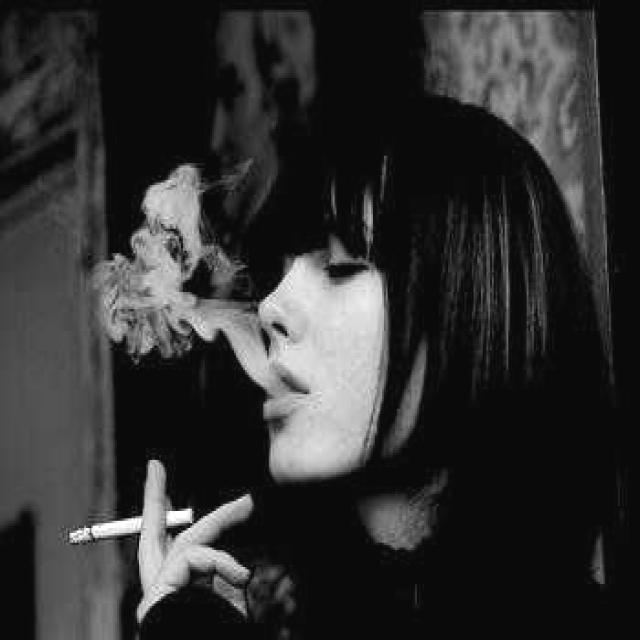Smooking: (60, 491, 214, 547)
